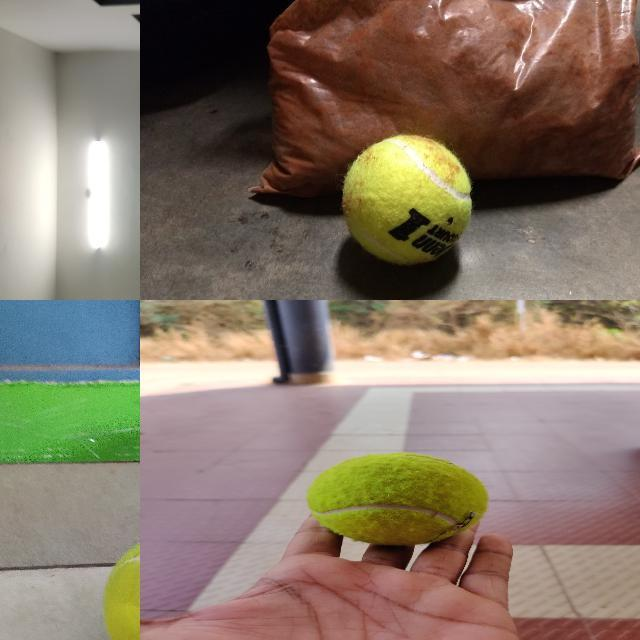tennis-ball: (304, 452, 488, 546), (340, 133, 472, 264)
